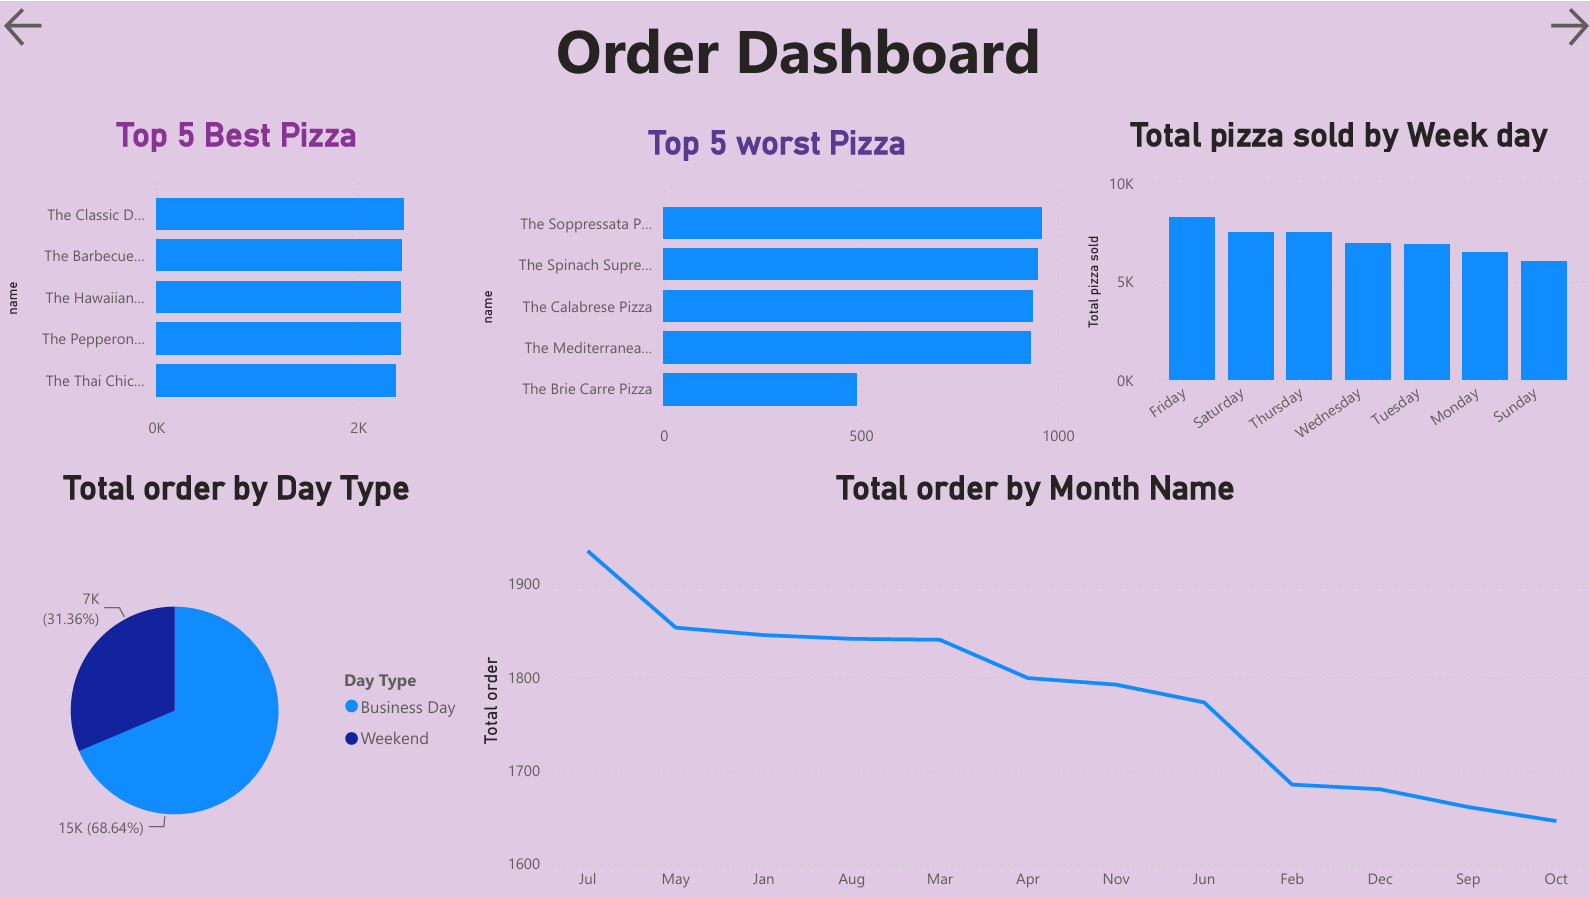

This screenshot's page, from the dashboard's own definition file:
{"tool":"powerbi","page":{"name":"Order Dash","canvas":[1280,720],"ordinal":1},"visuals":[{"type":"barChart","title":"Top 5 Best Pizza","fields":{"Y":["order_details.Total pizza sold"],"Category":["pizza_types.name"]},"box":[0,90.3,380.4,268.7],"z":0},{"type":"barChart","title":"Top 5 worst Pizza","fields":{"Y":["order_details.Total pizza sold"],"Category":["pizza_types.name"]},"box":[380.4,97.5,485,268.7],"z":1},{"type":"textbox","box":[380.4,0,518.3,90.3],"z":2},{"type":"columnChart","fields":{"Category":["orders.Week day"],"Y":["order_details.Total pizza sold"]},"box":[865.4,90.3,413.7,282.9],"z":3},{"type":"pieChart","fields":{"Y":["order_details.Total order"],"Category":["orders.Day Type"]},"box":[0,373.3,380.4,347.1],"z":4},{"type":"lineChart","fields":{"Category":["orders.Month Name"],"Y":["order_details.Total order"]},"box":[380.4,373.3,898.7,347.1],"z":5},{"type":"actionButton","box":[0,0,100,40],"z":6},{"type":"actionButton","box":[1235.8,0,43.5,39.9],"z":7}]}

Visuals, with their boxes in screenshot pixels (x1, y1, x2, y2), scaled from the page's 1280x720 canvas onto the 1590x897 screenshot:
"Top 5 Best Pizza" barChart: Rect(0, 112, 473, 447)
"Top 5 worst Pizza" barChart: Rect(473, 121, 1075, 456)
textbox: Rect(473, 0, 1116, 112)
columnChart - orders.Week day x order_details.Total pizza sold: Rect(1075, 112, 1589, 465)
pieChart - order_details.Total order x orders.Day Type: Rect(0, 465, 473, 896)
lineChart - orders.Month Name x order_details.Total order: Rect(473, 465, 1589, 896)
actionButton: Rect(0, 0, 124, 50)
actionButton: Rect(1535, 0, 1589, 50)
